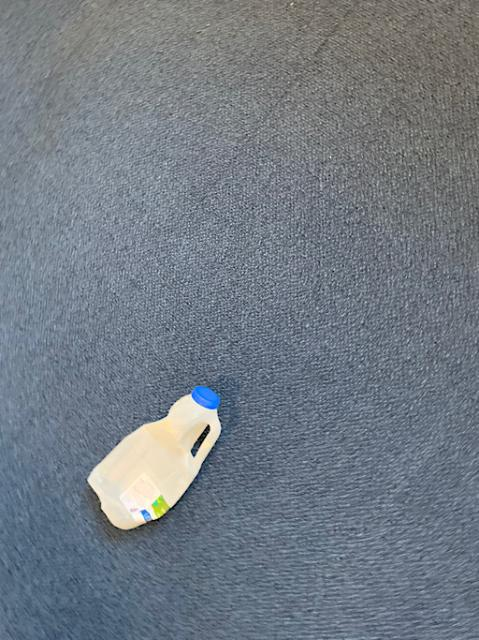plastic: (87, 385, 219, 528)
